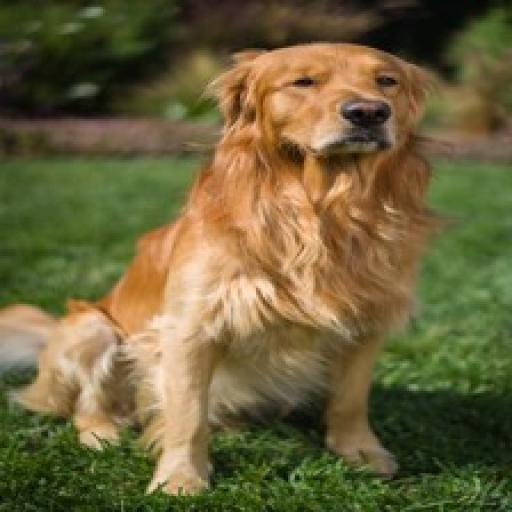dog: (2, 39, 448, 512)
